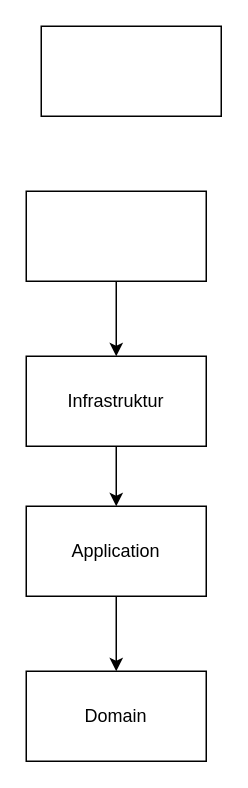
This 248x788 diagram has some shape labels left out. The centre of each missing label's shape, as x and y in pixels:
"Presenter/Controller" belongs at pixel 115 235.
"Request" belongs at pixel 130 70.
